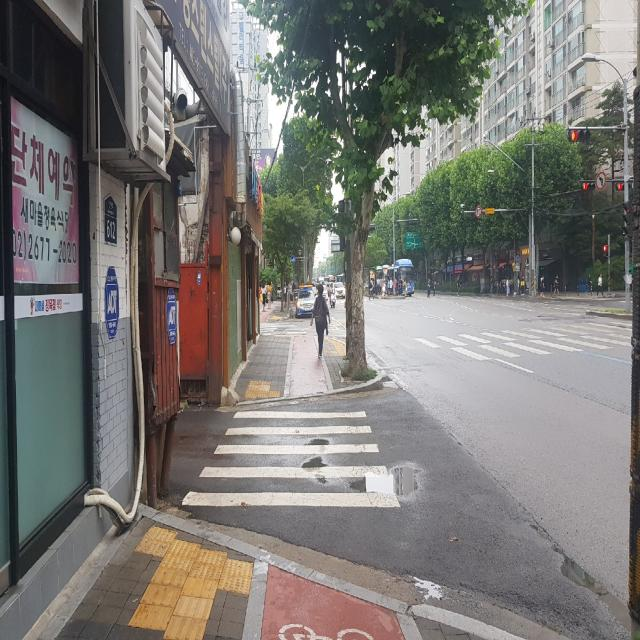횡단보도: (182, 409, 403, 510), (407, 316, 637, 390)
